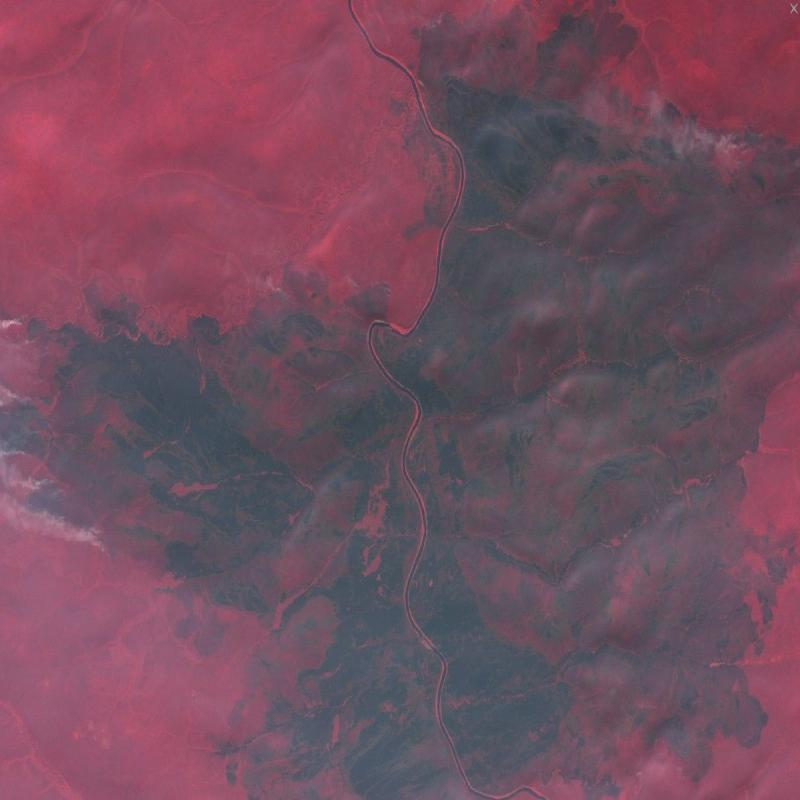fire: (0, 291, 122, 576), (651, 104, 800, 207), (254, 260, 413, 350), (420, 2, 460, 53)
